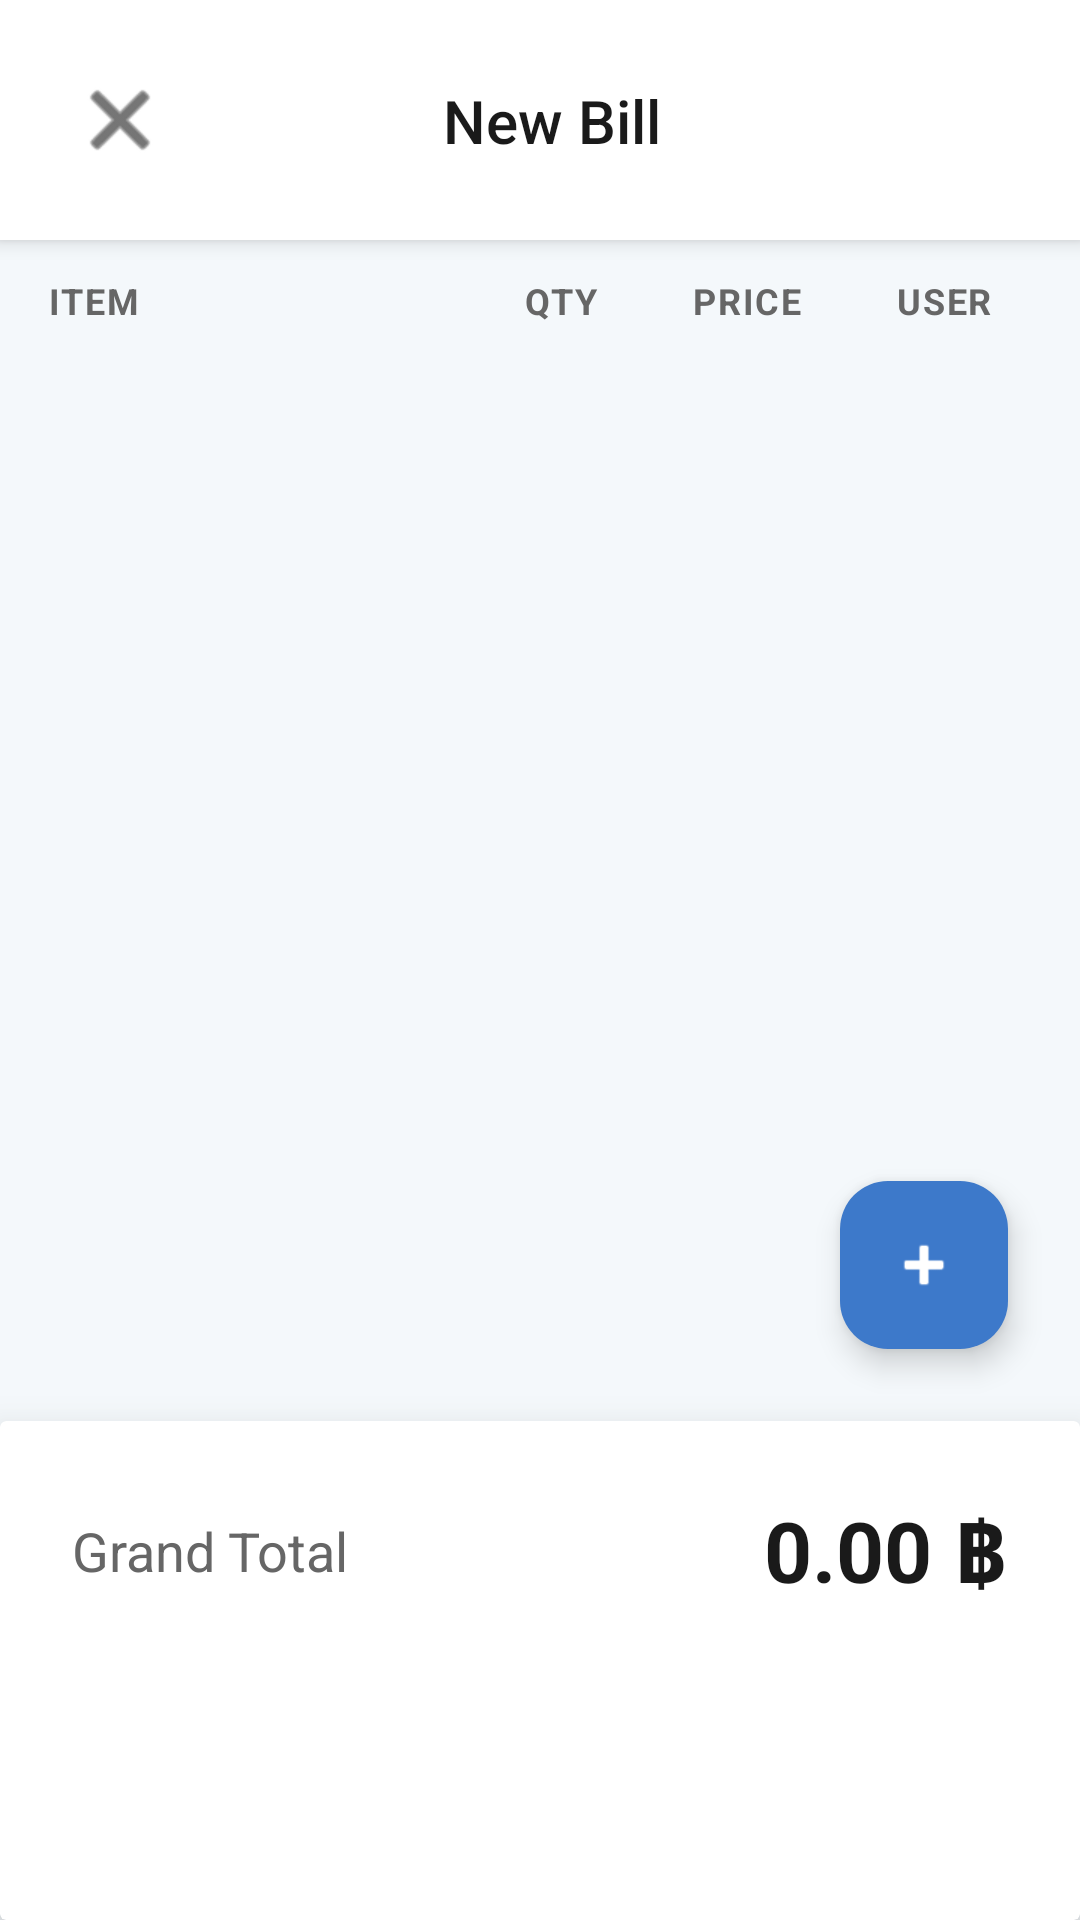

Icon click points for this 1080x1920 phone screenshot, format (x=x, y=y):
Add Item: (x=924, y=1265)
Back: (x=120, y=120)
